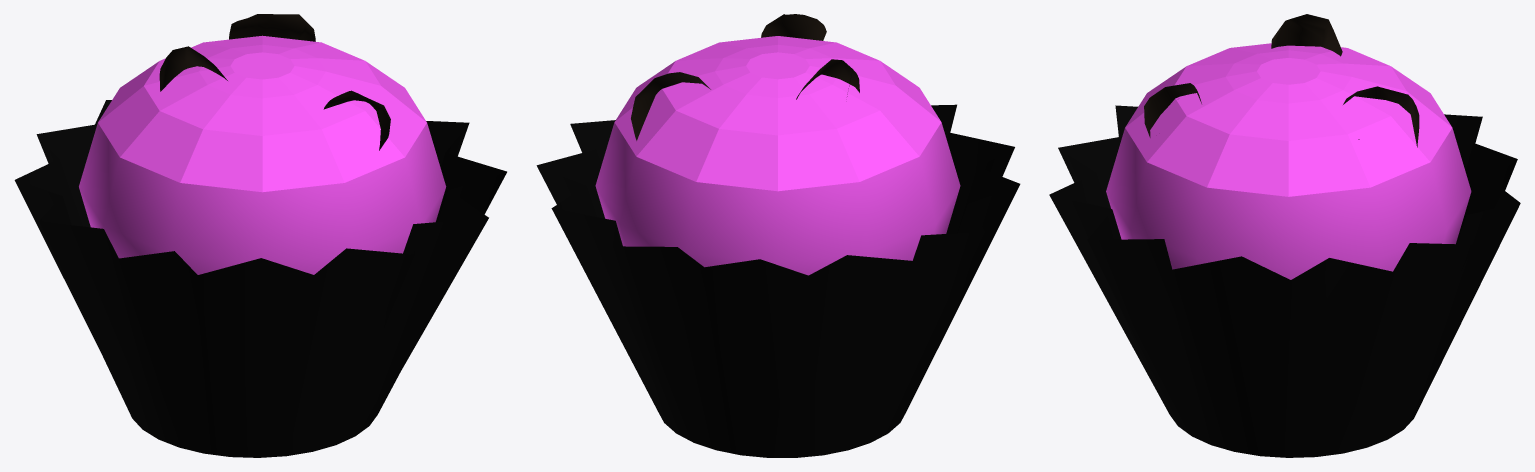
Rendered from Muffin_1.fbx.
3 renders of one model, left to right at view 1: azimuth 30°, elevation 25°; view 2: azimuth 150°, elevation 25°; view 3: azimuth 270°, elevation 25°, orthographic.
Parts seen in each view (by area): view 1: Cylinder026; view 2: Cylinder026; view 3: Cylinder026.
Part boxes in pixels (x1,y1,x2,y2): Cylinder026: (14,14,506,457); Cylinder026: (536,14,1020,457); Cylinder026: (1049,14,1520,457).
Bounding box in the file's own units: 18.46 × 15.12 × 17.88.
